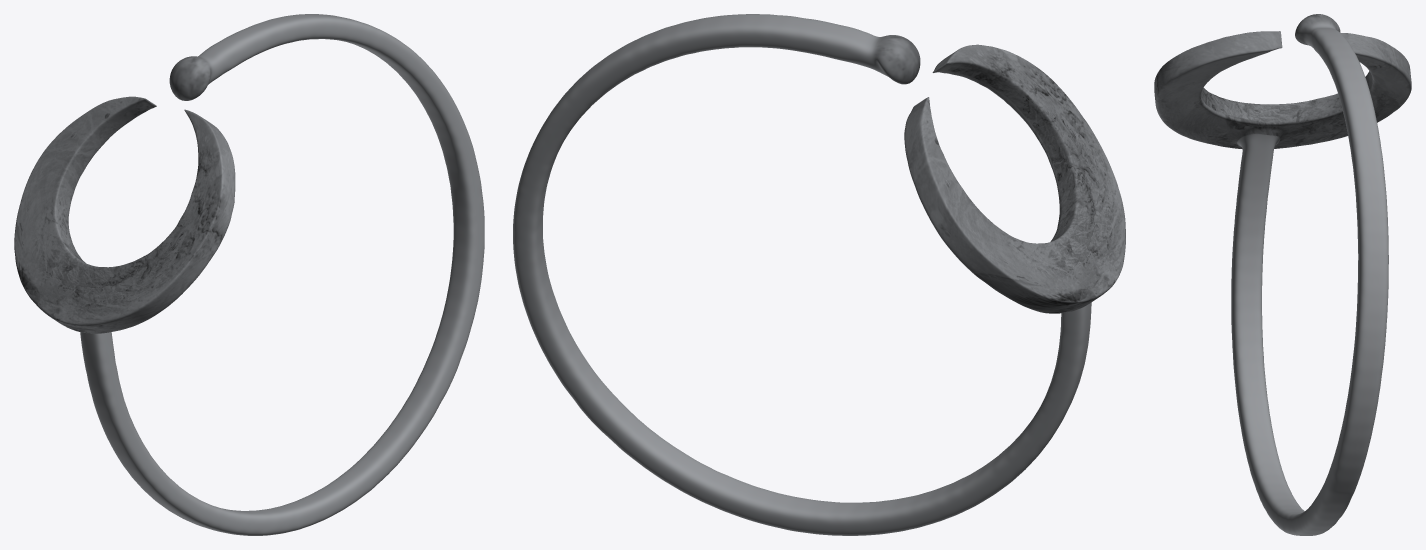
The model's file is one_ring.glb.
3 renders of one model, left to right at view 1: azimuth 30°, elevation 25°; view 2: azimuth 150°, elevation 25°; view 3: azimuth 270°, elevation 25°, orthographic. The views are drawn at different scales.
Parts seen in each view (by area): view 1: Object_0; view 2: Object_0; view 3: Object_0.
Part boxes in pixels (x1,y1,x2,y2): Object_0: (14,14,484,535); Object_0: (513,14,1125,535); Object_0: (1154,14,1411,535).
Size of the model in its own units: 0.1102 by 0.1051 by 0.0535.
1 material, 1 textured.
